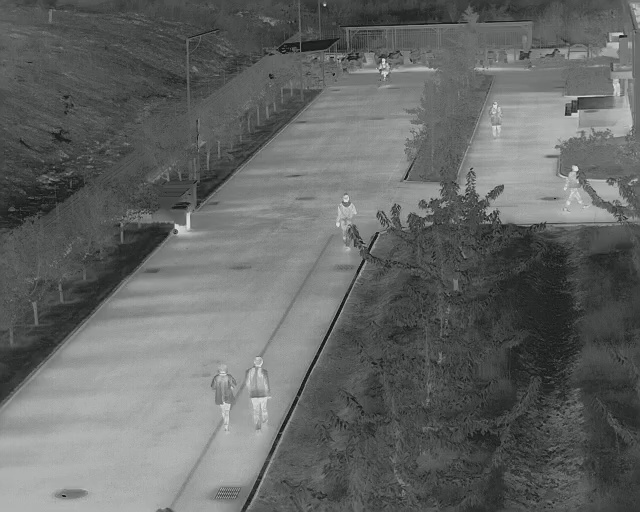NonMotorVehicle: (374, 57, 394, 86)
person: (243, 357, 272, 431), (210, 362, 237, 433), (336, 192, 355, 252), (562, 164, 585, 212), (487, 101, 504, 139)
